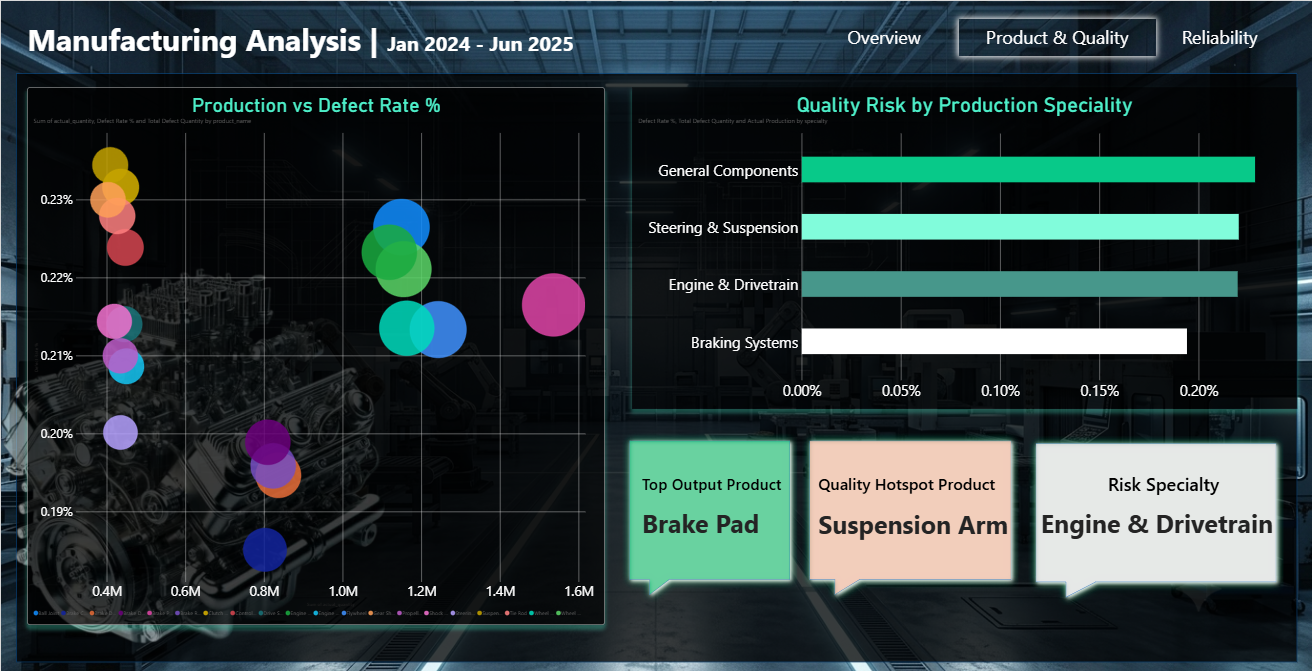

Layout of this report page (visuals, bound fields, positions):
{"tool":"powerbi","page":{"name":"Product & quality","canvas":[3500,1800],"ordinal":2},"visuals":[{"type":"shape","box":[40,193.3,3416.7,1570],"z":0},{"type":"textbox","box":[70,46.7,1483.3,133.3],"z":1000},{"type":"actionButton","title":"Overview off","box":[2183.3,46.7,343.3,100],"z":2000},{"type":"actionButton","title":"pro & qua on","box":[2553.3,46.7,526.7,100],"z":3000},{"type":"actionButton","title":"reliability off","box":[3080,46.7,340,100],"z":4000},{"type":"image","box":[0,626.7,1023.3,1173.3],"z":5000},{"type":"scatterChart","title":"Production vs Defect Rate %","fields":{"X":["Sum(production_records.actual_quantity)"],"Y":["defect_measures.Defect Rate %"],"Size":["defect_measures.Total Defect Quantity"],"Series":["products.product_name"]},"box":[70,230,1540,1433.3],"z":9000},{"type":"clusteredBarChart","title":"Quality Risk by Production Speciality","fields":{"Y":["defect_measures.Defect Rate %"],"Category":["production_lines.specialty"]},"box":[1683.3,230,1773.3,856.7],"z":10000},{"type":"shape","box":[1656.7,1153.3,466.7,450],"z":11000},{"type":"cardVisual","fields":{"Data":["defect_measures.Top Output Product"]},"box":[1683.3,1166.7,433.3,363.3],"z":12000},{"type":"shape","box":[2136.7,1153.3,576.7,450],"z":13000},{"type":"cardVisual","fields":{"Data":["defect_measures.Quality Hotspot Product"]},"box":[2153.3,1166.7,663.3,363.3],"z":14000},{"type":"shape","box":[2740,1160,680,450],"z":15000},{"type":"cardVisual","fields":{"Data":["defect_measures.Risk Speciality"]},"box":[2746.7,1296.7,703.3,156.7],"z":16000},{"type":"textbox","box":[2780,1253.3,640,86.7],"z":17000}]}

Visuals, with their boxes in screenshot pixels (x1, y1, x2, y2), scaled from the page's 3500x1800 canvas onto the 1312x671 screenshot:
shape: 15/72/1296/657
textbox: 26/17/582/67
"Overview off" actionButton: 818/17/947/55
"pro & qua on" actionButton: 957/17/1155/55
"reliability off" actionButton: 1155/17/1282/55
image: 0/234/384/670
"Production vs Defect Rate %" scatterChart: 26/86/604/620
"Quality Risk by Production Speciality" clusteredBarChart: 631/86/1296/405
shape: 621/430/796/598
cardVisual - defect_measures.Top Output Product: 631/435/793/570
shape: 801/430/1017/598
cardVisual - defect_measures.Quality Hotspot Product: 807/435/1056/570
shape: 1027/432/1282/600
cardVisual - defect_measures.Risk Speciality: 1030/483/1293/542
textbox: 1042/467/1282/500
